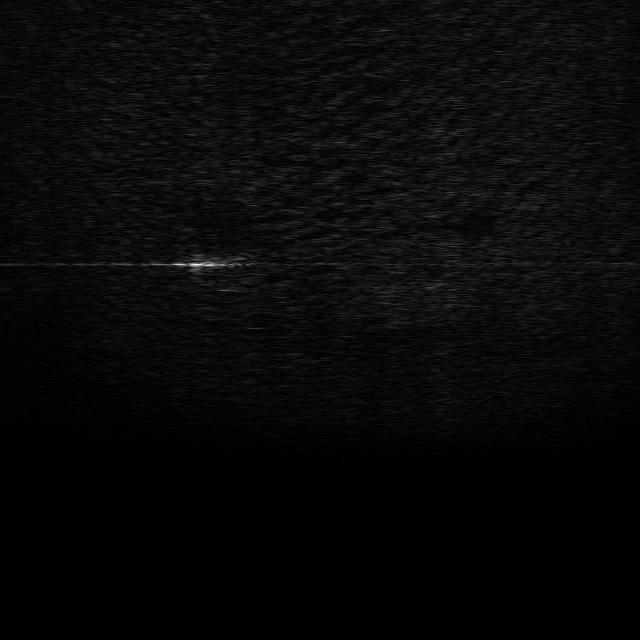plane: (185, 248, 260, 295)
